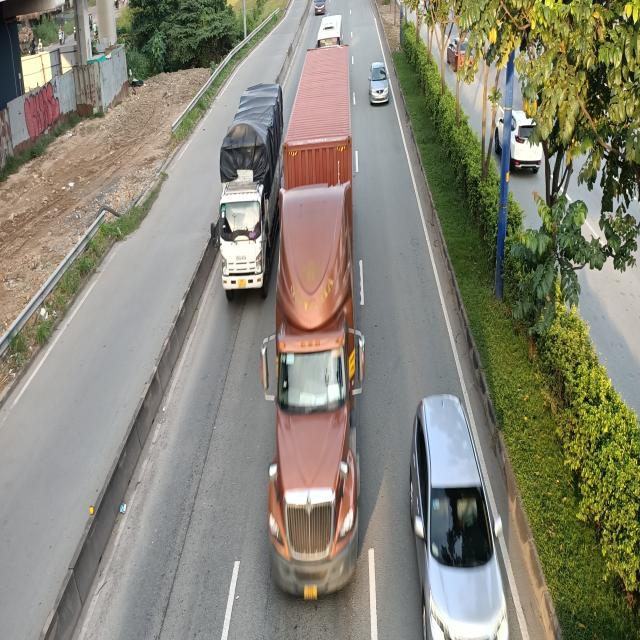car: (409, 398, 511, 640), (370, 63, 390, 105)
container: (259, 48, 367, 592)
truck: (208, 86, 283, 301)
